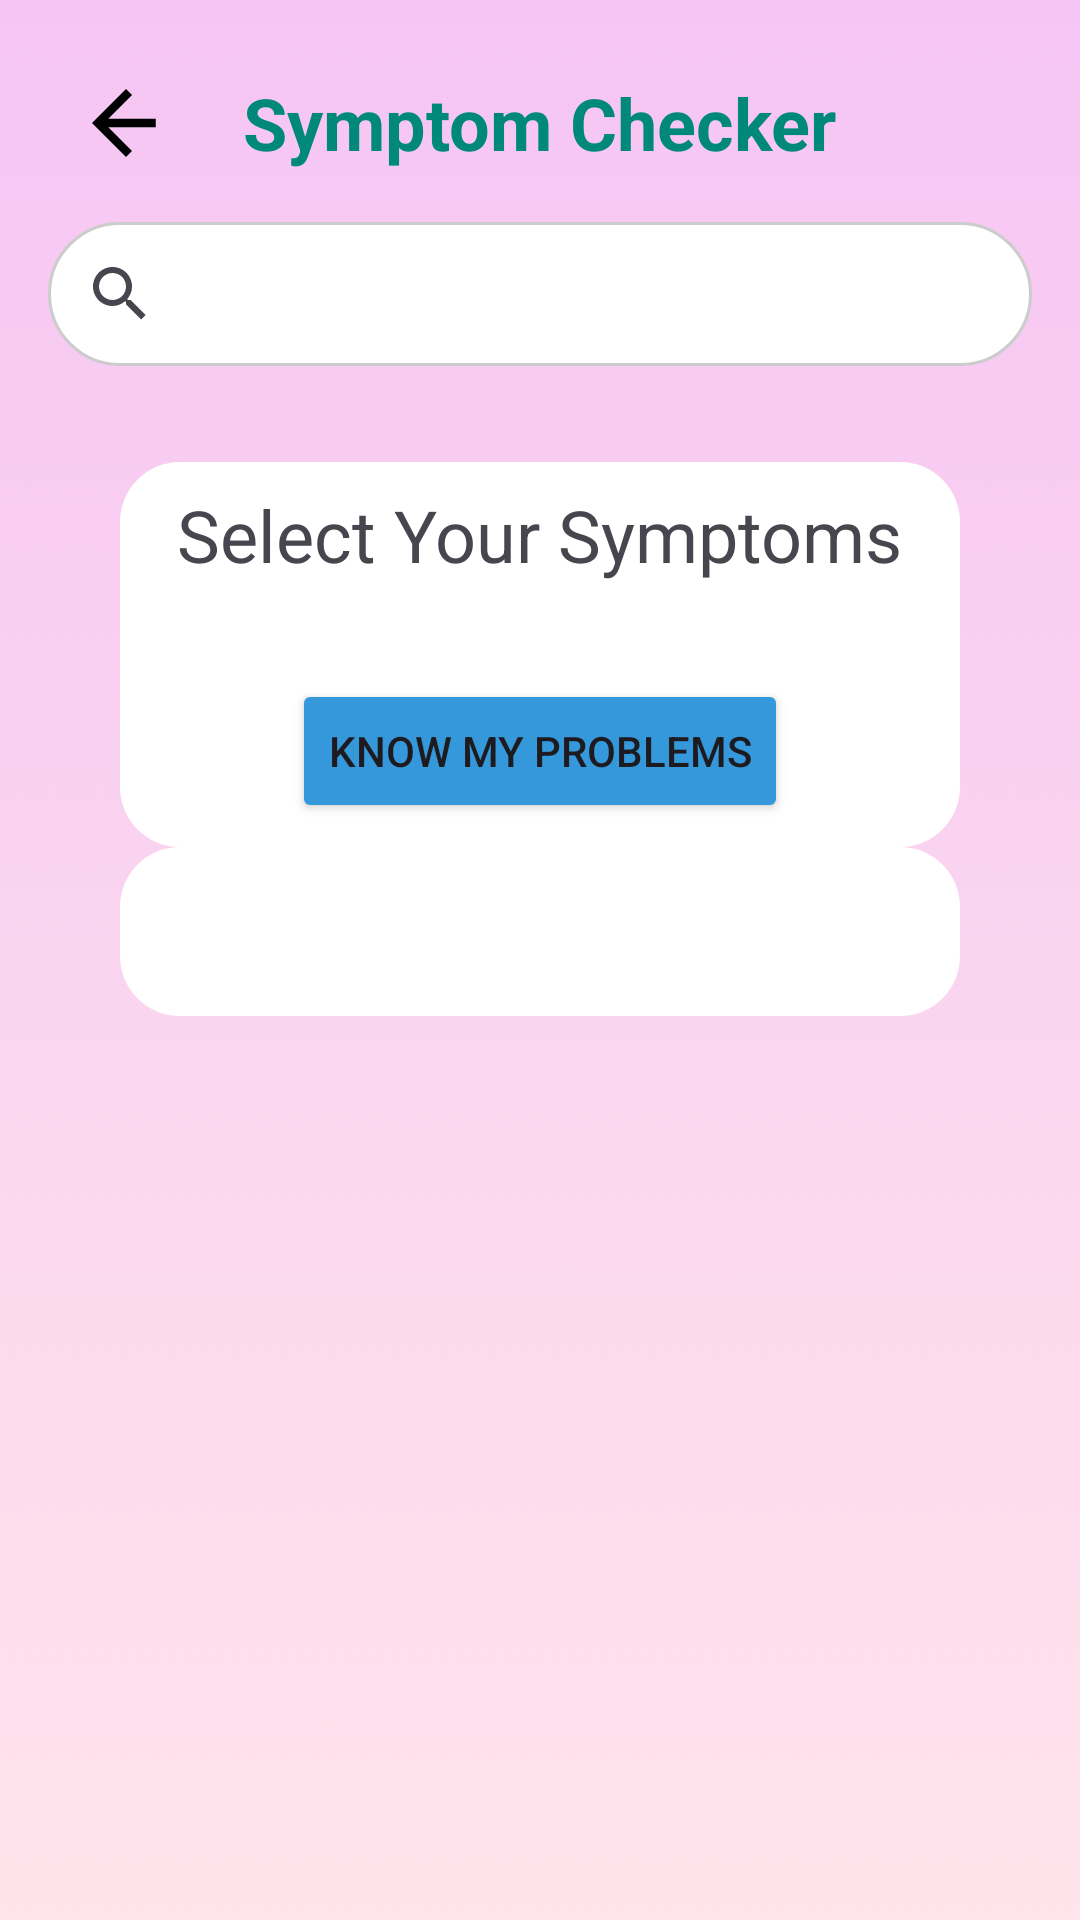

Icon bounding boxes for this 1080×1920 phone screenshot, format {"x1": x1, "y1": y1, "x2": x2, "y2": y2}:
Back: {"x1": 92, "y1": 89, "x2": 156, "y2": 157}
